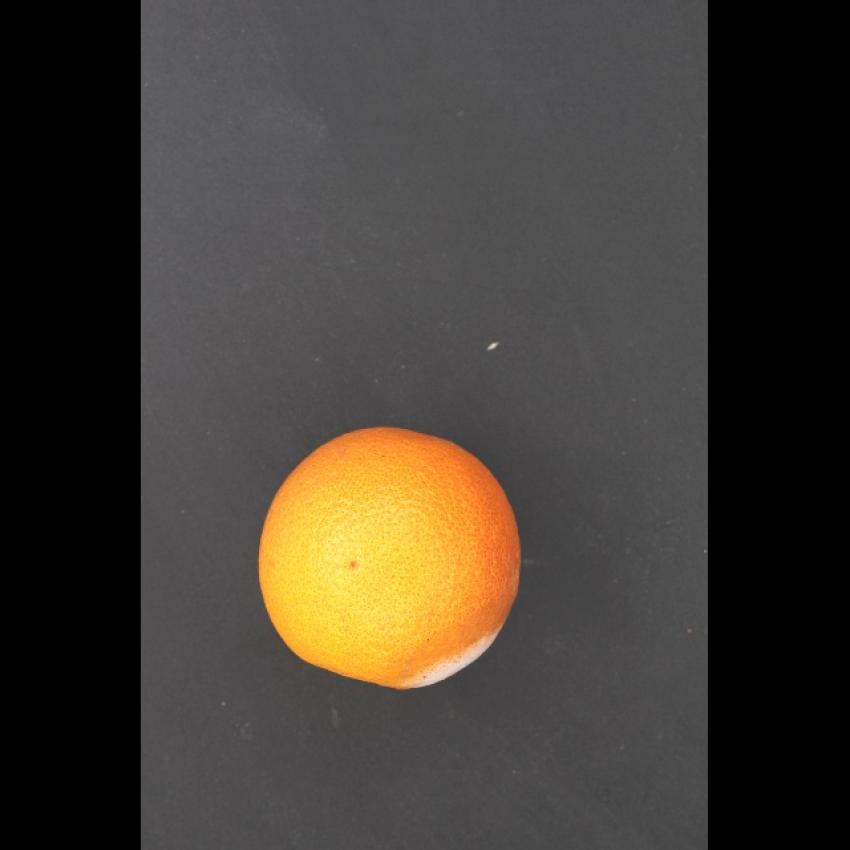Mal estado: (249, 422, 524, 702)
